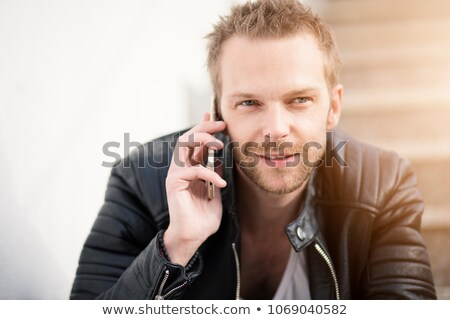phone: (189, 96, 226, 194)
talk: (168, 88, 325, 239)
